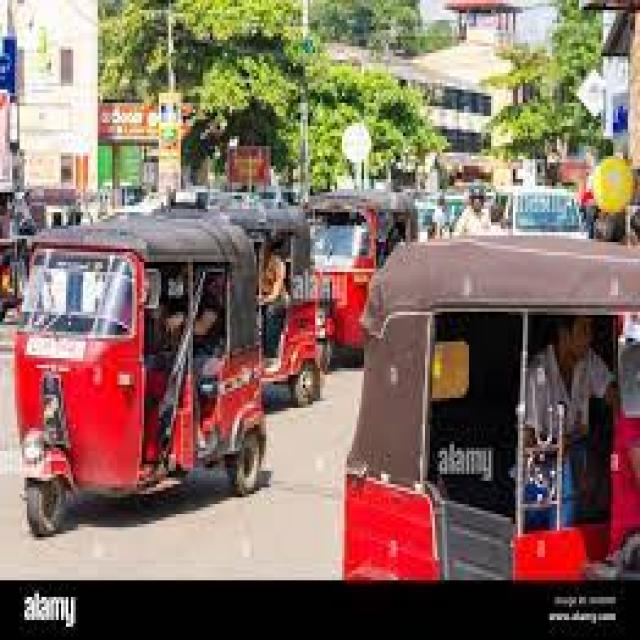person: (501, 332, 591, 554), (435, 194, 471, 246)
three wheeler: (332, 246, 614, 605), (14, 225, 252, 554), (294, 201, 398, 377), (219, 214, 306, 422)
